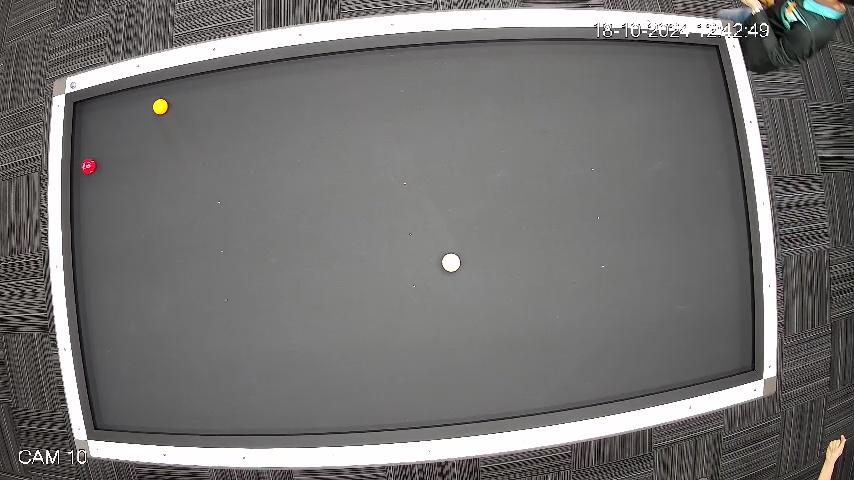Red: (80, 158, 96, 176)
White: (440, 253, 460, 274)
Yellow: (152, 98, 169, 117)
